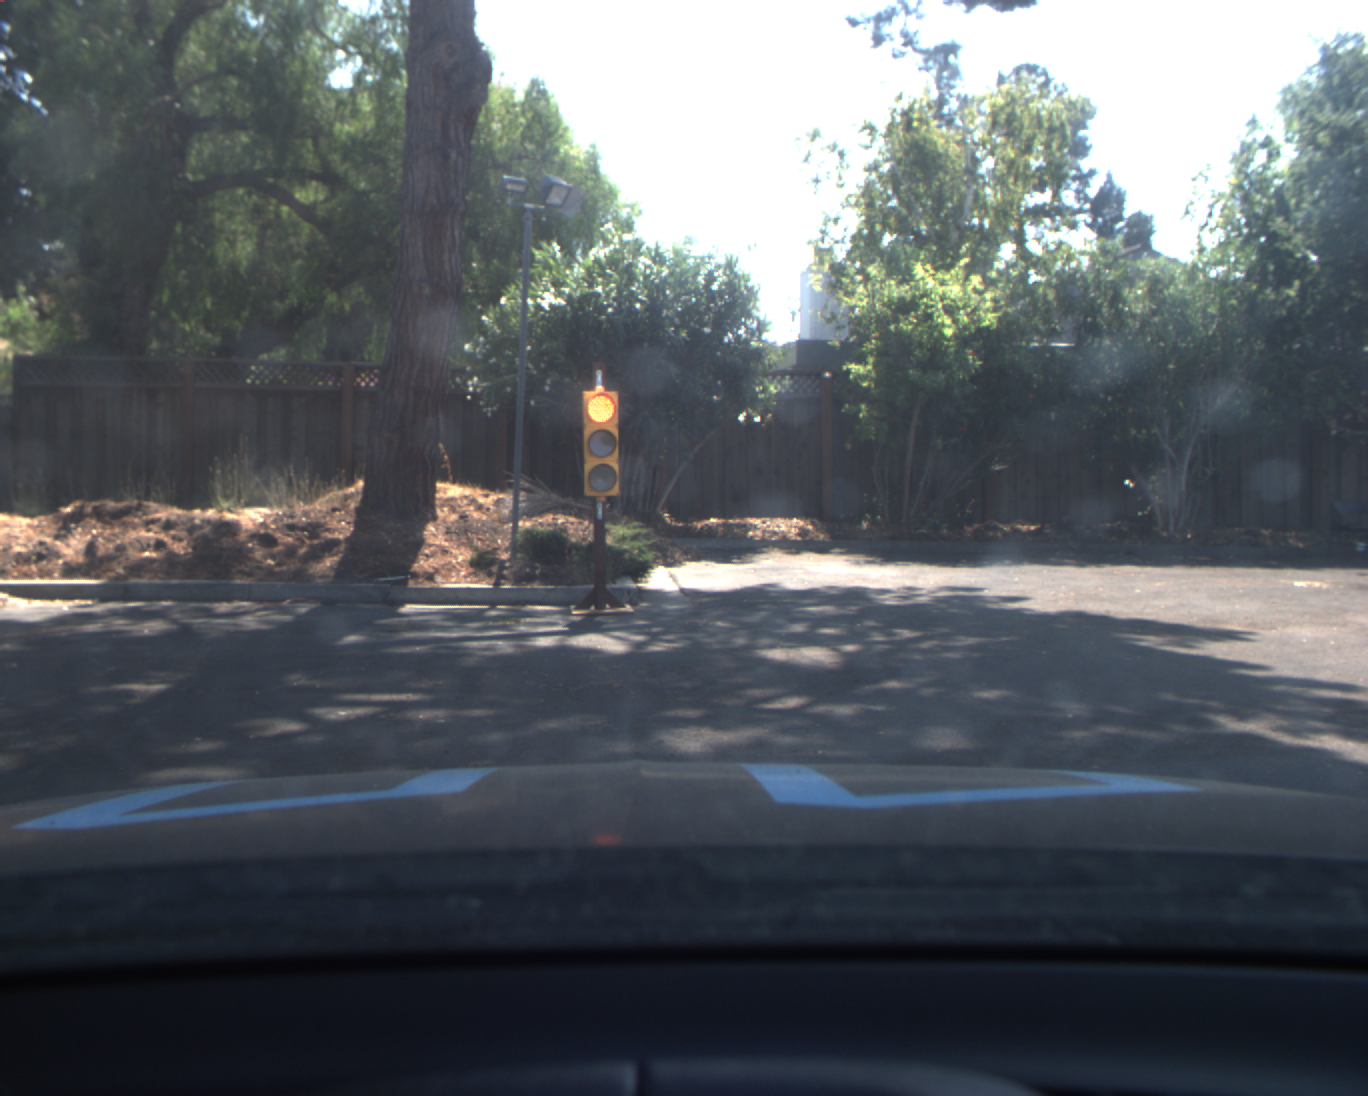red: (581, 386, 624, 498)
